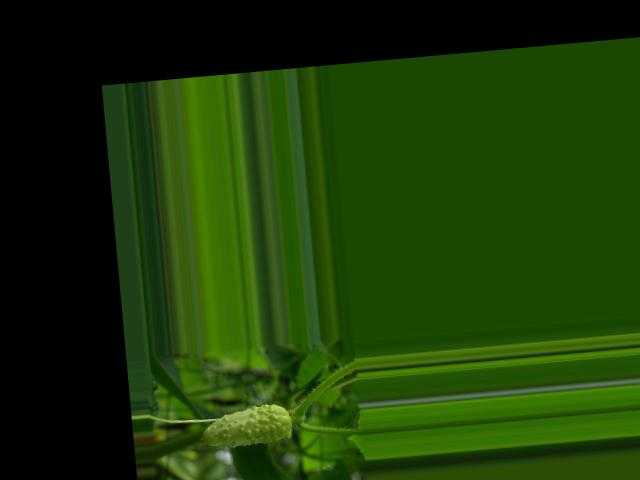cucumber: (197, 401, 293, 449)
